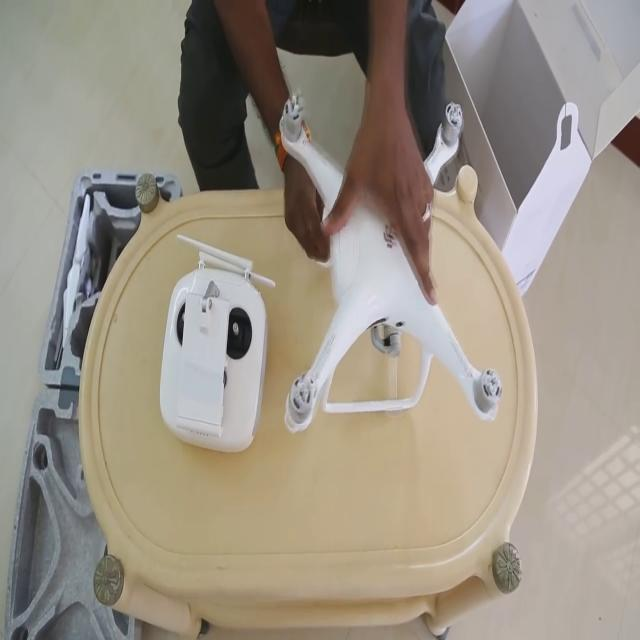drones: (256, 53, 516, 500)
